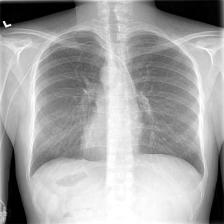normal: (29, 28, 208, 188)
